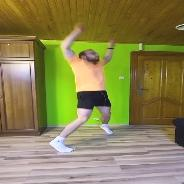jumping_jacks: (46, 22, 134, 161)
